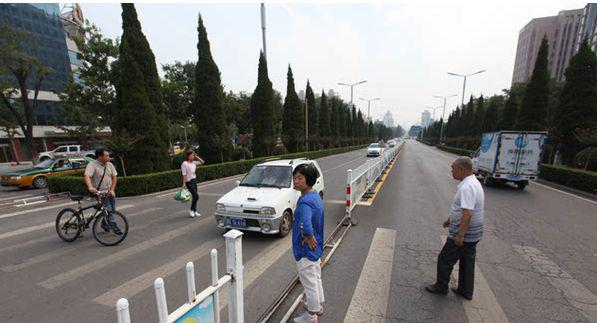car: (210, 155, 325, 241), (2, 147, 94, 193), (364, 137, 381, 161)
motorbike: (53, 186, 130, 246)
person: (227, 153, 334, 304), (433, 163, 490, 304), (287, 158, 331, 257), (78, 150, 118, 238), (175, 144, 203, 214)
truck: (466, 126, 538, 194)
